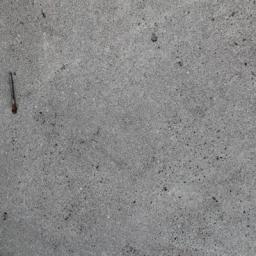FOD: (7, 72, 23, 116)
